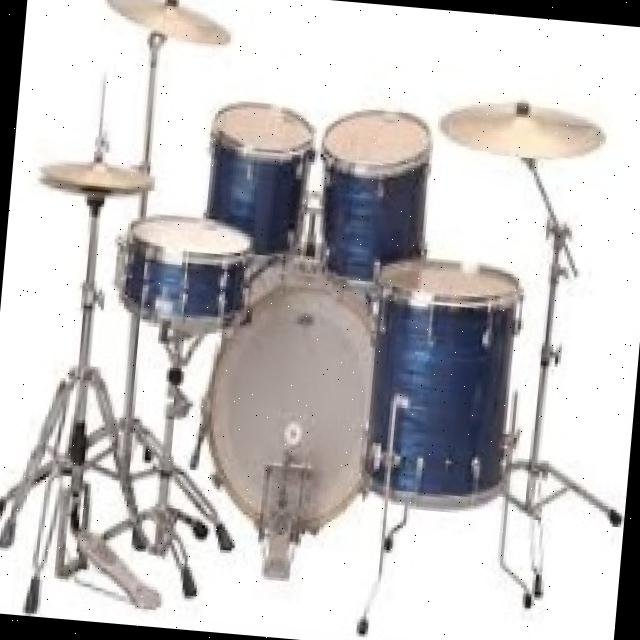drums: (1, 0, 640, 623)
